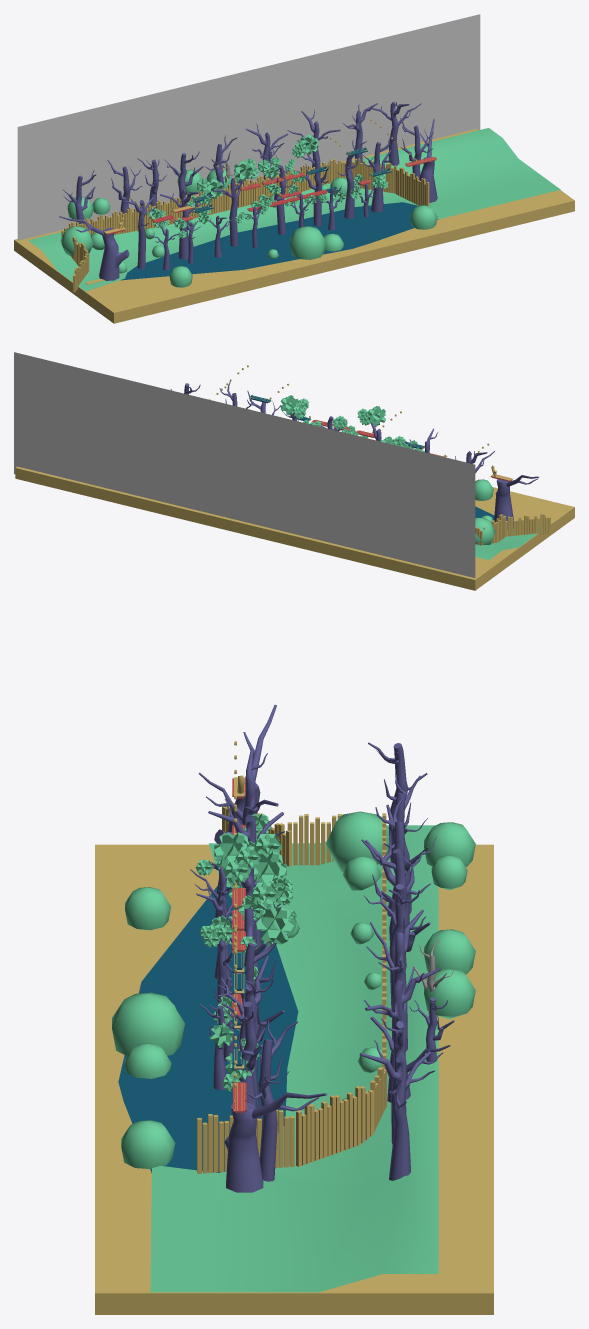
Rendered from lvl3.fbx.
3 renders of one model, top to bottom at view 1: azimuth 30°, elevation 25°; view 2: azimuth 150°, elevation 25°; view 3: azimuth 270°, elevation 25°, orthographic. The views are drawn at different scales.
Parts seen in each view (by area): view 1: Box084, lv_003; view 2: lv_003, Box084; view 3: Box084.
Boxes of the visible parts, <box> form: Box084: <box>14,101,574,323</box>; lv_003: <box>17,14,480,240</box>; lv_003: <box>14,352,475,577</box>; Box084: <box>15,365,574,590</box>; Box084: <box>95,704,493,1314</box>.
Size of the model in its own units: 269 by 67.62 by 98.4.
